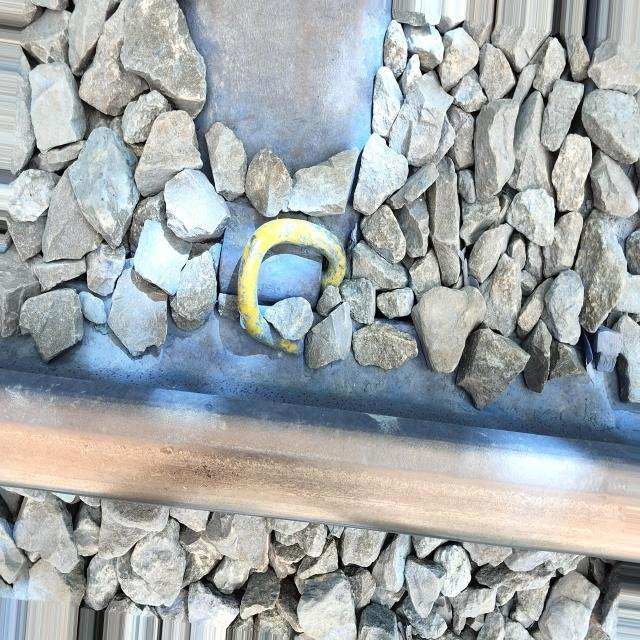Good Fasteners: (218, 202, 346, 352)
